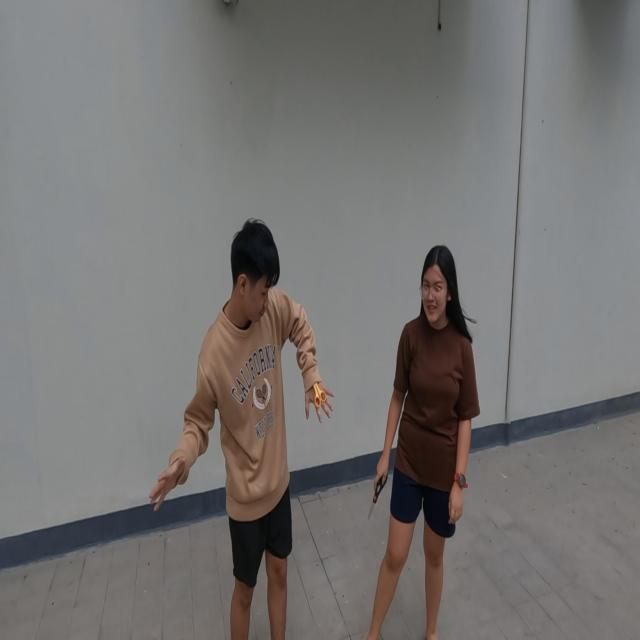scissor: (368, 474, 388, 520), (314, 382, 327, 409)
